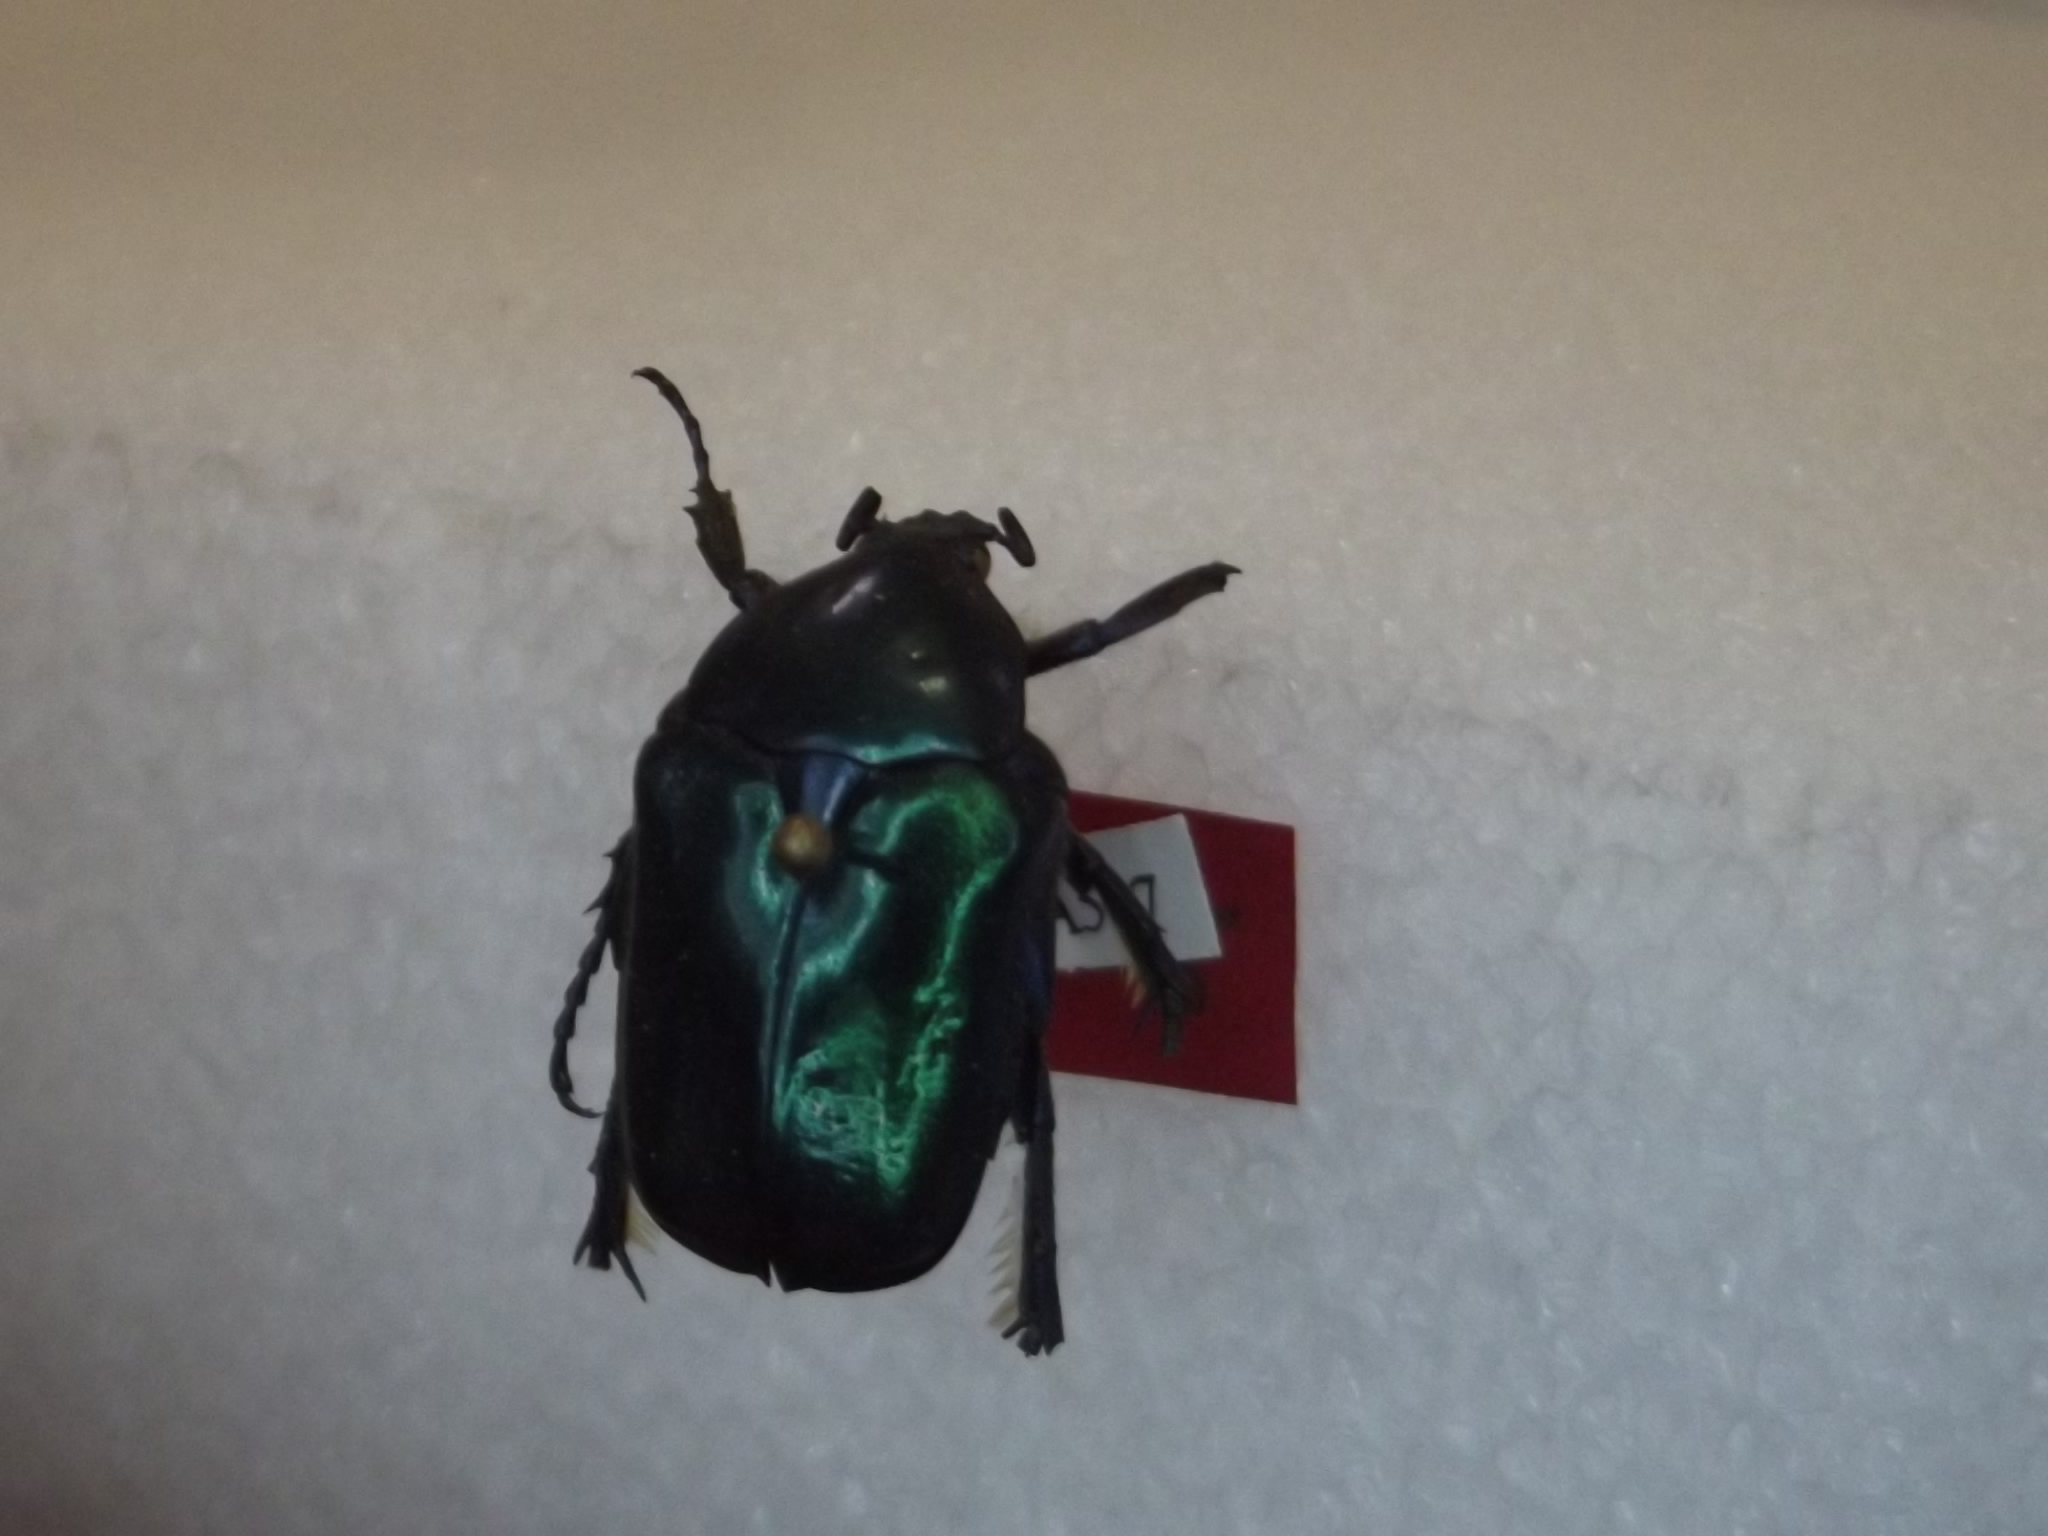Protaetia_besucheti: (484, 332, 1263, 1394)
